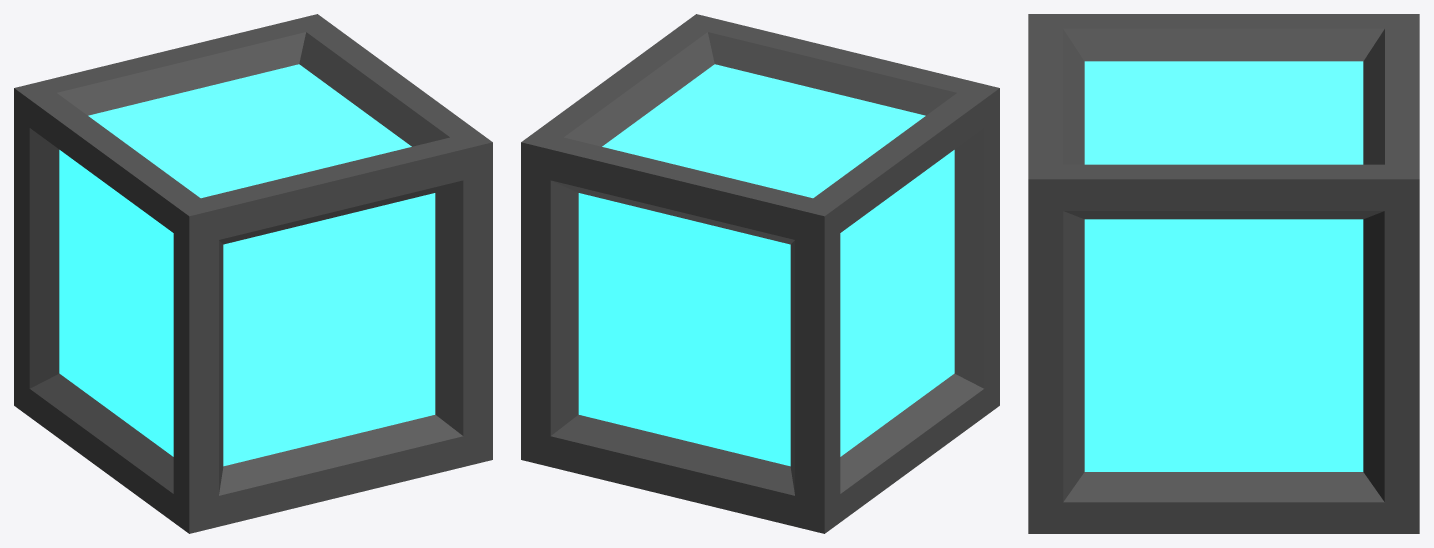
File: LightCube.fbx
The picture shows the model from 3 angles, left to right: view 1: azimuth 30°, elevation 25°; view 2: azimuth 150°, elevation 25°; view 3: azimuth 270°, elevation 25°; orthographic projection. The views are drawn at different scales.
Parts seen in each view (by area): view 1: Cube; view 2: Cube; view 3: Cube.
Part boxes in pixels (x1,y1,x2,y2): Cube: (14, 14, 492, 533); Cube: (521, 14, 999, 533); Cube: (1028, 14, 1419, 533).
Size of the model in its own units: 200 by 200 by 200.
